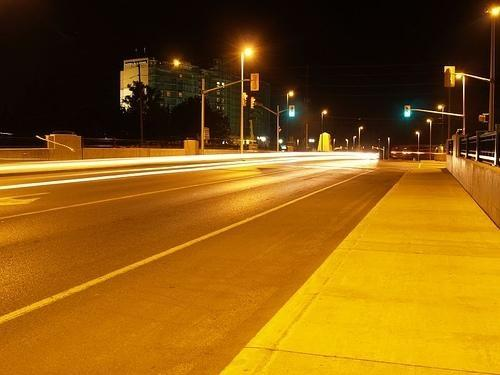car: (390, 147, 418, 161)
